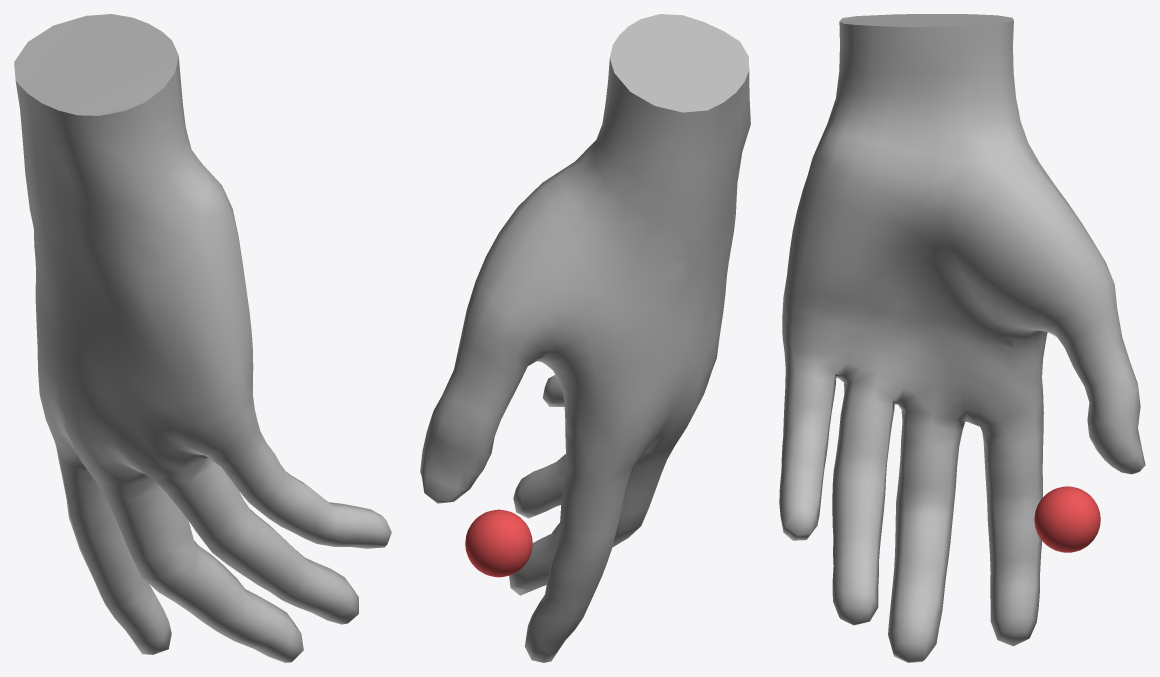
Rendered from left.glb.
3 views of the same model, side by side, from view 1: azimuth 30°, elevation 25°; view 2: azimuth 150°, elevation 25°; view 3: azimuth 270°, elevation 25° (orthographic). The views are drawn at different scales.
Parts seen in each view (by area): view 1: r_handMeshNode.001; view 2: r_handMeshNode.001, Sphere; view 3: r_handMeshNode.001, Sphere.
Part boxes in pixels (x1=…): r_handMeshNode.001: x1=14, y1=14, x2=391, y2=662; r_handMeshNode.001: x1=420, y1=14, x2=750, y2=662; Sphere: x1=465, y1=509, x2=532, y2=577; r_handMeshNode.001: x1=779, y1=14, x2=1145, y2=662; Sphere: x1=1034, y1=486, x2=1100, y2=552.
Bounding box in the file's own units: 0.0869 × 0.1985 × 0.1103.
